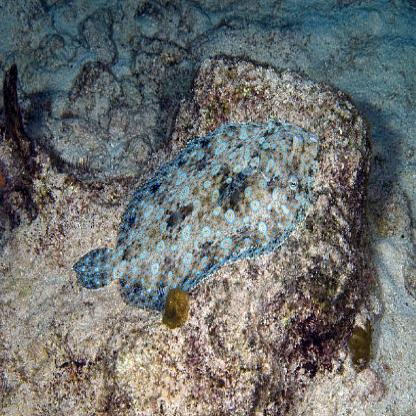flounder: (74, 102, 332, 318)
